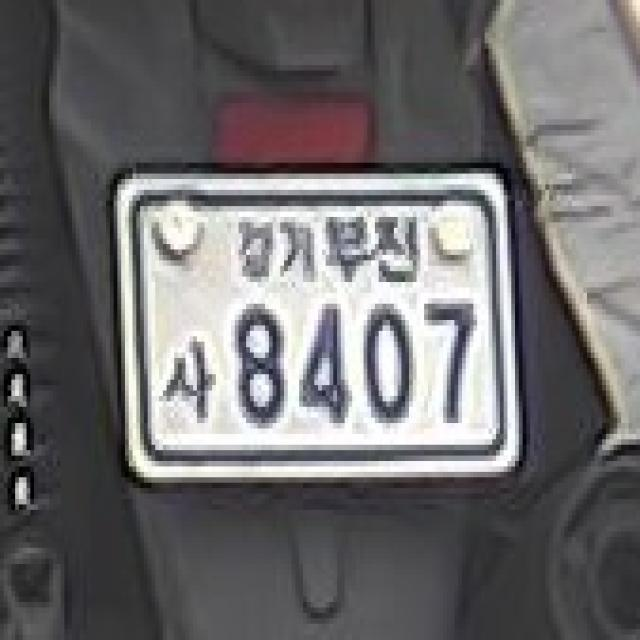plat: (111, 160, 523, 486)
